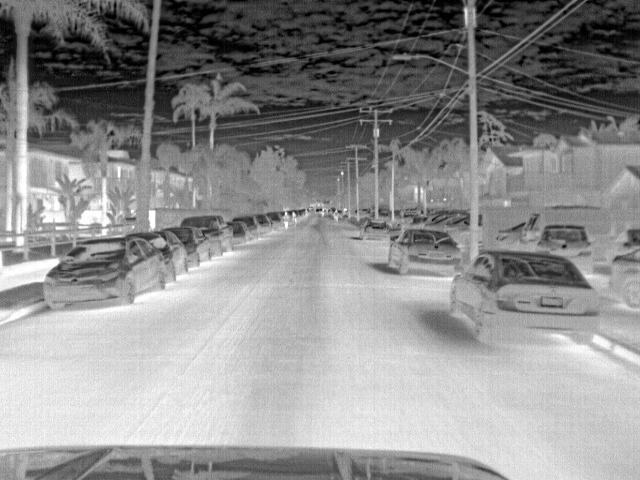car: (445, 249, 602, 347), (40, 235, 171, 311), (383, 226, 457, 274), (134, 228, 187, 274), (537, 223, 591, 267), (181, 213, 235, 255), (608, 248, 639, 312), (157, 229, 206, 264), (516, 210, 537, 251), (497, 220, 524, 250), (191, 229, 219, 256), (446, 214, 469, 246), (234, 218, 262, 239), (361, 220, 393, 238), (424, 214, 464, 228), (227, 220, 246, 246), (254, 214, 272, 232), (268, 211, 283, 231)
person: (281, 210, 291, 231)
